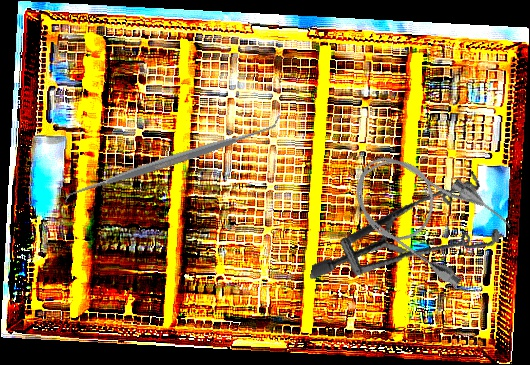Cannula: (337, 131, 517, 296)
Spatula Surgical: (58, 111, 287, 208)
Speculum: (309, 141, 513, 319)
